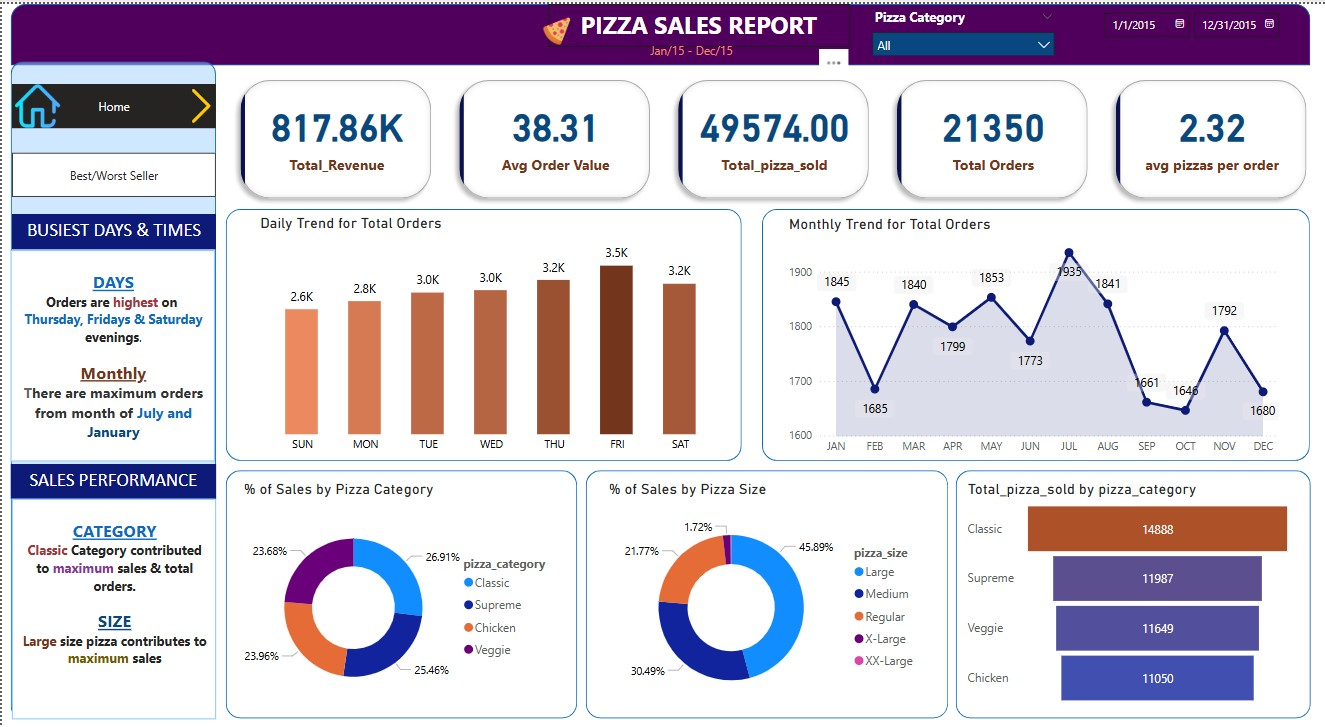

This screenshot's page, from the dashboard's own definition file:
{"tool":"powerbi","page":{"name":"Home","canvas":[1500,820],"ordinal":0},"visuals":[{"type":"cardVisual","fields":{"Data":["pizza_sales.Total_Revenue","pizza_sales.Avg Order Value","pizza_sales.Total_pizza_sold","pizza_sales.Total Orders","pizza_sales.avg pizzas per order"]},"box":[253.4,69.6,1246,168.5],"z":0},{"type":"shape","box":[9.7,0,1472.9,69.6],"z":1000},{"type":"textbox","box":[619.5,0,341.1,50.1],"z":2000},{"type":"shape","box":[253.4,232.5,584.7,285.4],"z":3000},{"type":"columnChart","title":"Daily Trend for Total Orders","fields":{"Y":["pizza_sales.Total Orders"],"Category":["pizza_sales.Order day"]},"box":[288.2,238.1,534.6,279.8],"z":4000},{"type":"shape","box":[861.8,232.5,620.9,285.4],"z":5000},{"type":"shape","box":[9.7,65.4,232.5,744.8],"z":6000},{"type":"areaChart","title":"Monthly Trend for Total Orders","fields":{"Y":["pizza_sales.Total Orders"],"Category":["pizza_sales.Mth Name"]},"box":[886.8,239.5,565.2,279.8],"z":7000},{"type":"shape","box":[253.4,529,398.2,281.2],"z":8000},{"type":"shape","box":[661.3,529,410.7,281.2],"z":9000},{"type":"shape","box":[1080.3,529,402.3,281.2],"z":10000},{"type":"donutChart","title":"% of Sales by Pizza Category","fields":{"Y":["pizza_sales.Total_Revenue"],"Category":["pizza_sales.pizza_category"]},"box":[268.7,540.2,367.5,270.1],"z":11000},{"type":"donutChart","title":"% of Sales by Pizza Size","fields":{"Y":["pizza_sales.Total_Revenue"],"Category":["pizza_sales.pizza_size"]},"box":[683.6,540.2,367.5,270.1],"z":12000},{"type":"funnel","fields":{"Y":["pizza_sales.Total_pizza_sold"],"Category":["pizza_sales.pizza_category"]},"box":[1090.1,540.2,377.3,260.3],"z":13000},{"type":"textbox","box":[11.1,238.1,231.1,40.4],"z":14000},{"type":"textbox","box":[9.7,278.4,231.1,239.5],"z":15000},{"type":"textbox","box":[9.7,520.7,232.5,39],"z":16000},{"type":"textbox","box":[11.1,561.1,231.1,249.2],"z":17000},{"type":"slicer","fields":{"Values":["pizza_sales.order_date"]},"box":[1236.3,0,215.8,65.4],"z":18000},{"type":"slicer","fields":{"Values":["pizza_sales.pizza_category"]},"box":[975.9,0,226.9,58.5],"z":19000},{"type":"pageNavigator","box":[11.1,90.5,231.1,50.1],"z":20000},{"type":"pageNavigator","box":[11.1,168.5,231.1,50.1],"z":21000},{"type":"textbox","box":[729.5,37.6,122.5,27.8],"z":22000},{"type":"image","box":[607,9.7,44.6,41.8],"z":23000},{"type":"image","box":[196.3,90.5,57.1,50.1],"z":24000},{"type":"image","box":[9.7,83.5,61.3,64],"z":25000}]}

Visuals, with their boxes in screenshot pixels (x1, y1, x2, y2), scaled from the page's 1500x820 canvas onto the 1325x727 screenshot:
cardVisual - pizza_sales.Total_Revenue x pizza_sales.Avg Order Value: [left=224, top=62, right=1324, bottom=211]
shape: [left=9, top=0, right=1310, bottom=62]
textbox: [left=547, top=0, right=849, bottom=44]
shape: [left=224, top=206, right=740, bottom=459]
"Daily Trend for Total Orders" columnChart: [left=255, top=211, right=727, bottom=459]
shape: [left=761, top=206, right=1310, bottom=459]
shape: [left=9, top=58, right=214, bottom=718]
"Monthly Trend for Total Orders" areaChart: [left=783, top=212, right=1283, bottom=460]
shape: [left=224, top=469, right=576, bottom=718]
shape: [left=584, top=469, right=947, bottom=718]
shape: [left=954, top=469, right=1310, bottom=718]
"% of Sales by Pizza Category" donutChart: [left=237, top=479, right=562, bottom=718]
"% of Sales by Pizza Size" donutChart: [left=604, top=479, right=928, bottom=718]
funnel - pizza_sales.Total_pizza_sold x pizza_sales.pizza_category: [left=963, top=479, right=1296, bottom=710]
textbox: [left=10, top=211, right=214, bottom=247]
textbox: [left=9, top=247, right=213, bottom=459]
textbox: [left=9, top=462, right=214, bottom=496]
textbox: [left=10, top=497, right=214, bottom=718]
slicer - pizza_sales.order_date: [left=1092, top=0, right=1283, bottom=58]
slicer - pizza_sales.pizza_category: [left=862, top=0, right=1062, bottom=52]
pageNavigator: [left=10, top=80, right=214, bottom=125]
pageNavigator: [left=10, top=149, right=214, bottom=194]
textbox: [left=644, top=33, right=753, bottom=58]
image: [left=536, top=9, right=576, bottom=46]
image: [left=173, top=80, right=224, bottom=125]
image: [left=9, top=74, right=63, bottom=131]
